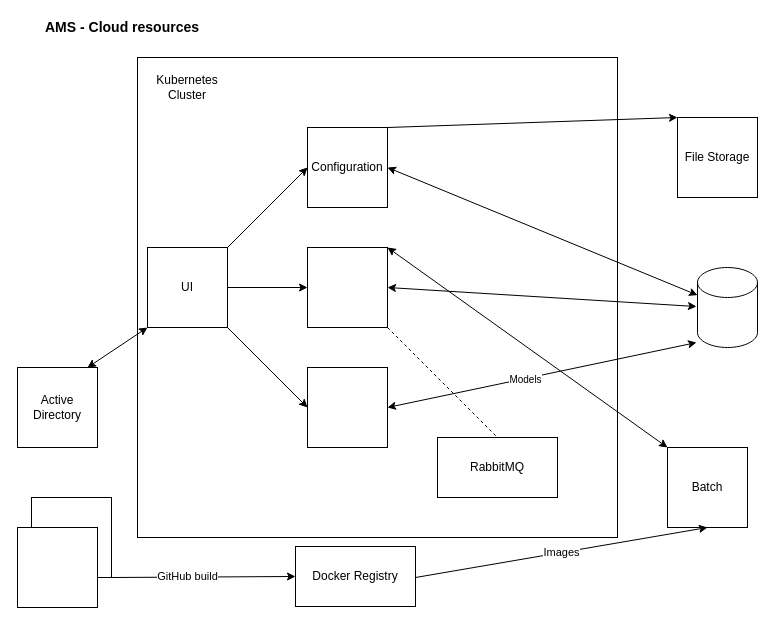
Some shapes in this 775 by 625 pixel diagram are drawn without their labels. The centre of each missing label's shape, as x and y in pixels:
Admin: the point at 347,407
MongoDB: the point at 727,307
Project repos: the point at 57,567
Simulation: the point at 347,287
